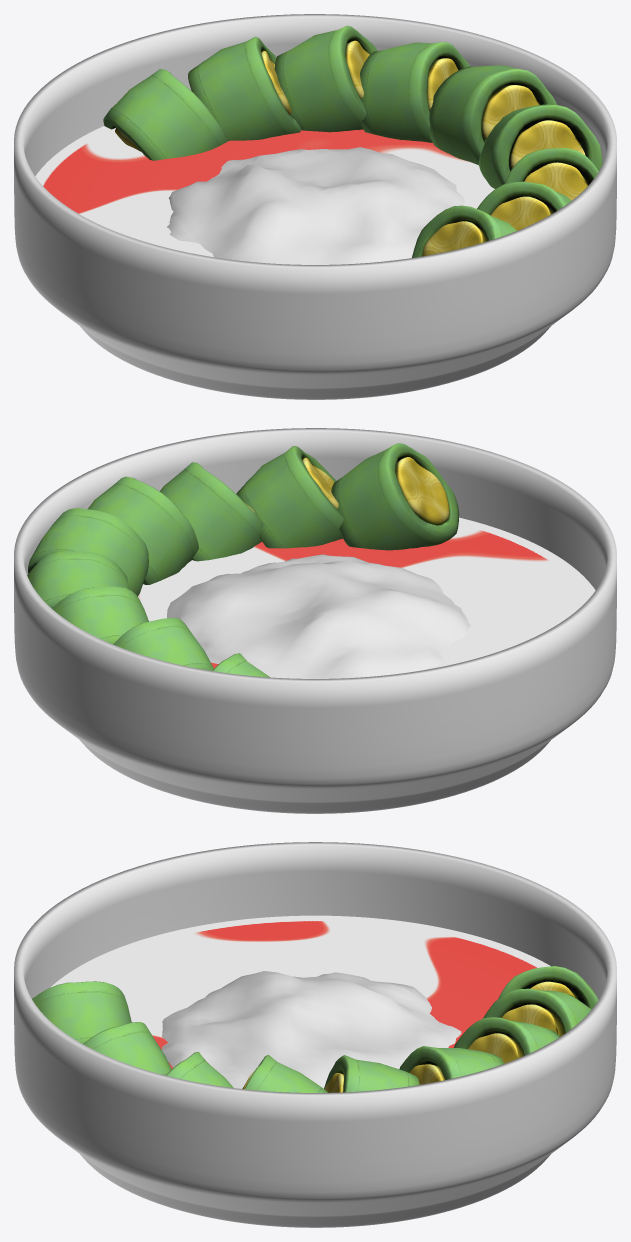
The model's file is pisangijo.fbx.
The picture shows the model from 3 angles, top to bottom: view 1: azimuth 30°, elevation 25°; view 2: azimuth 150°, elevation 25°; view 3: azimuth 270°, elevation 25°; orthographic projection.
Visible parts, largest first — view 1: bowl, Roundcube, Circle, Cylinder.008, Cylinder.009, Cylinder.007, Cylinder.006, Cylinder.010, Cylinder.005, Cylinder.001, Cylinder.004, Cylinder.002; view 2: bowl, Roundcube, Circle, Cylinder.001, Cylinder.002, Cylinder.004, Cylinder.005, Cylinder.006, Cylinder.008, Cylinder.007, Cylinder.009, Cylinder.010; view 3: bowl, Circle, Roundcube, Cylinder.001, Cylinder.009, Cylinder.008, Cylinder.002, Cylinder.007, Cylinder.006, Cylinder.010, Cylinder.005, Cylinder.004.
Part boxes in pixels (x1,y1,x2,y2): bowl: (14,14,616,399); Roundcube: (167,147,464,264); Circle: (35,126,494,257); Cylinder.008: (274,25,377,132); Cylinder.009: (188,36,301,140); Cylinder.007: (360,42,470,142); Cylinder.006: (429,65,556,165); Cylinder.010: (103,69,227,160); Cylinder.005: (479,104,602,188); Cylinder.001: (412,205,517,257); Cylinder.004: (504,148,598,200); Cylinder.002: (477,181,571,230); bowl: (14,428,616,813); Roundcube: (167,554,470,678); Circle: (138,517,595,669); Cylinder.001: (331,443,459,550); Cylinder.002: (236,446,343,548); Cylinder.004: (160,462,263,561); Cylinder.005: (87,476,198,584); Cylinder.006: (28,508,148,596); Cylinder.008: (52,586,148,644); Cylinder.007: (27,551,129,608); Cylinder.009: (113,618,213,670); Cylinder.010: (212,653,269,677); bowl: (14,842,616,1227); Circle: (50,915,550,1068); Roundcube: (162,971,461,1088); Cylinder.001: (32,981,131,1043); Cylinder.009: (483,988,591,1036); Cylinder.008: (454,1017,560,1063); Cylinder.002: (83,1022,171,1075); Cylinder.007: (399,1046,503,1084); Cylinder.006: (324,1055,419,1092); Cylinder.010: (498,966,598,1009); Cylinder.005: (242,1054,328,1092); Cylinder.004: (166,1051,233,1087).
Size of the model in its own units: 81.36 by 24.54 by 81.36.
5 materials, 3 textured.
